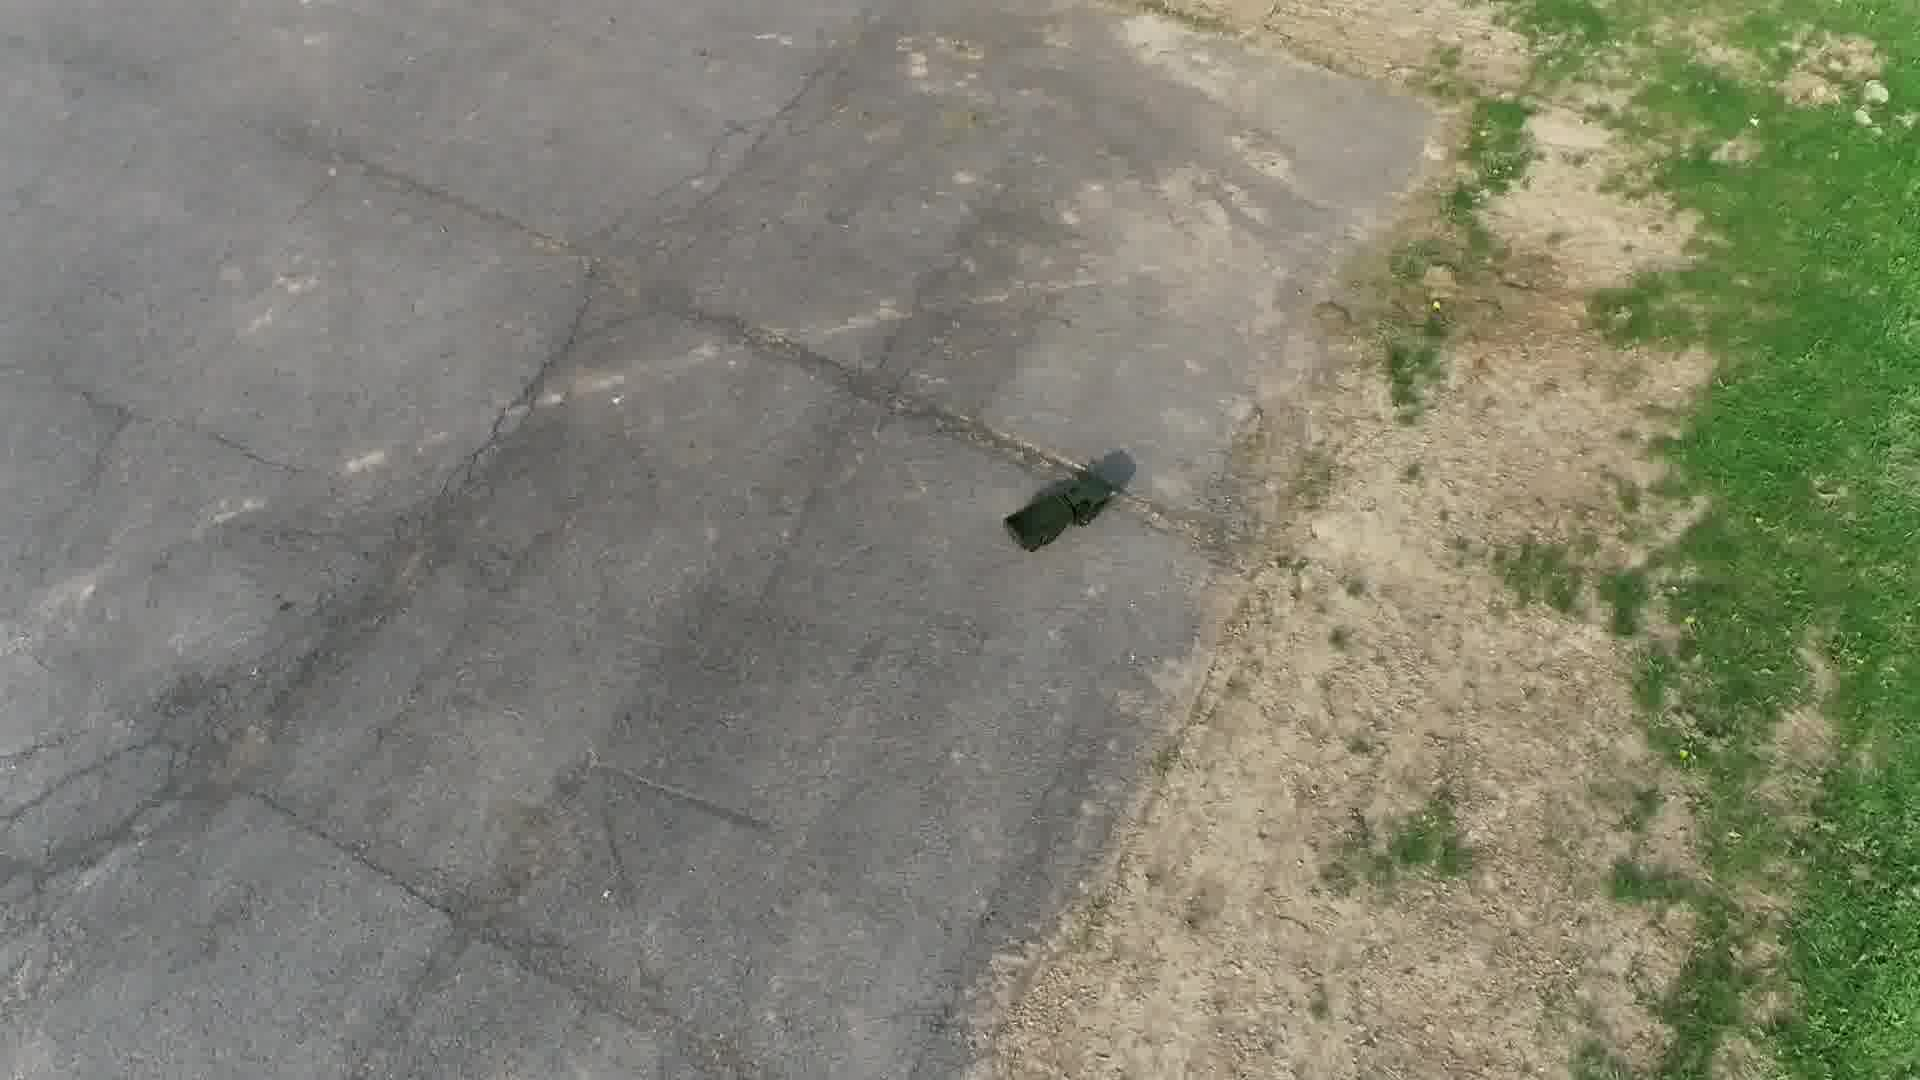transporter9: (1000, 469, 1116, 553)
